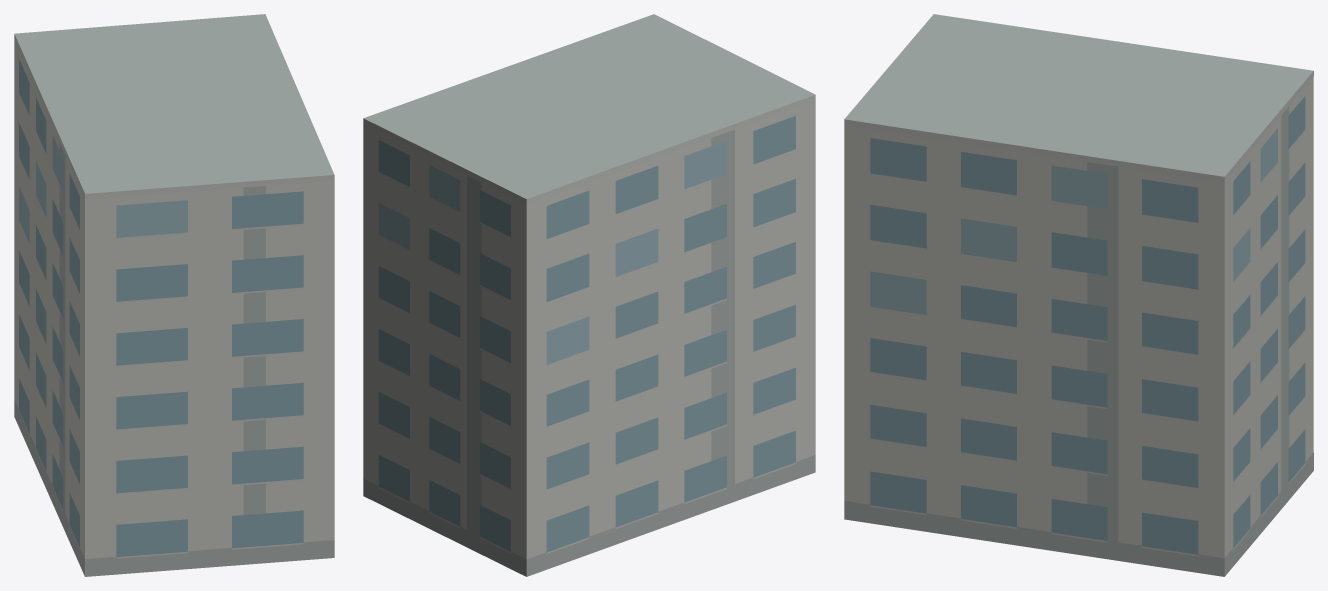
The model's file is survey-upis-32894279.glb.
3 renders of one model, left to right at view 1: azimuth 30°, elevation 25°; view 2: azimuth 150°, elevation 25°; view 3: azimuth 270°, elevation 25°, orthographic. The views are drawn at different scales.
Visible parts, largest first — view 1: survey-upis-32894279.tmp; view 2: survey-upis-32894279.tmp; view 3: survey-upis-32894279.tmp.
Boxes of the visible parts, x1,y1,x2,y2 form: survey-upis-32894279.tmp: [14, 14, 334, 576]; survey-upis-32894279.tmp: [363, 14, 815, 576]; survey-upis-32894279.tmp: [844, 14, 1313, 576].
Bounding box in the file's own units: 14.11 × 16.15 × 17.19.
